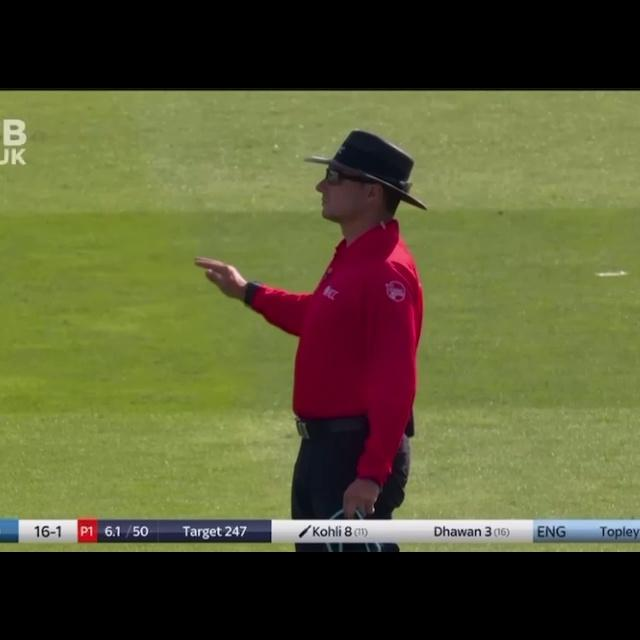umpire: (194, 110, 420, 521)
